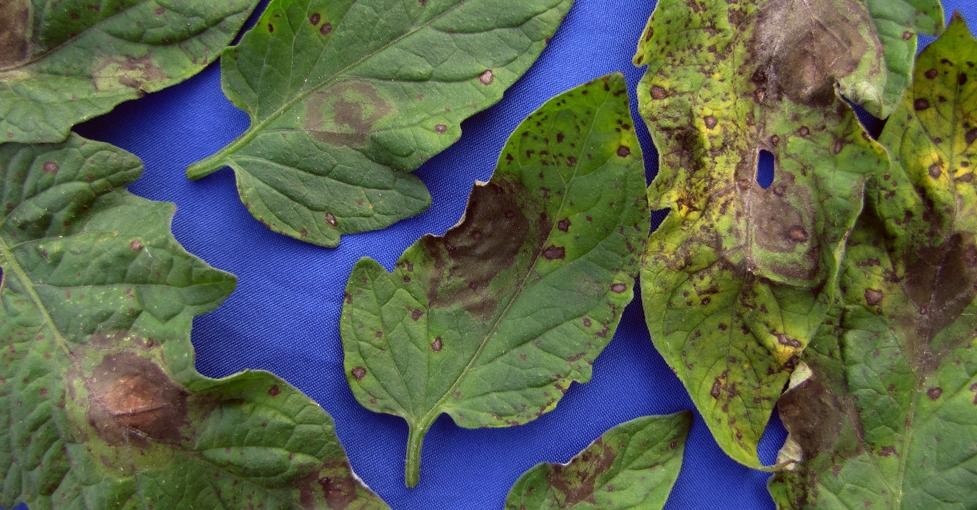Tomato leaf late blight: (0, 151, 469, 510), (626, 0, 946, 476), (327, 46, 658, 473), (709, 0, 977, 510), (212, 0, 620, 231), (0, 0, 310, 131)
